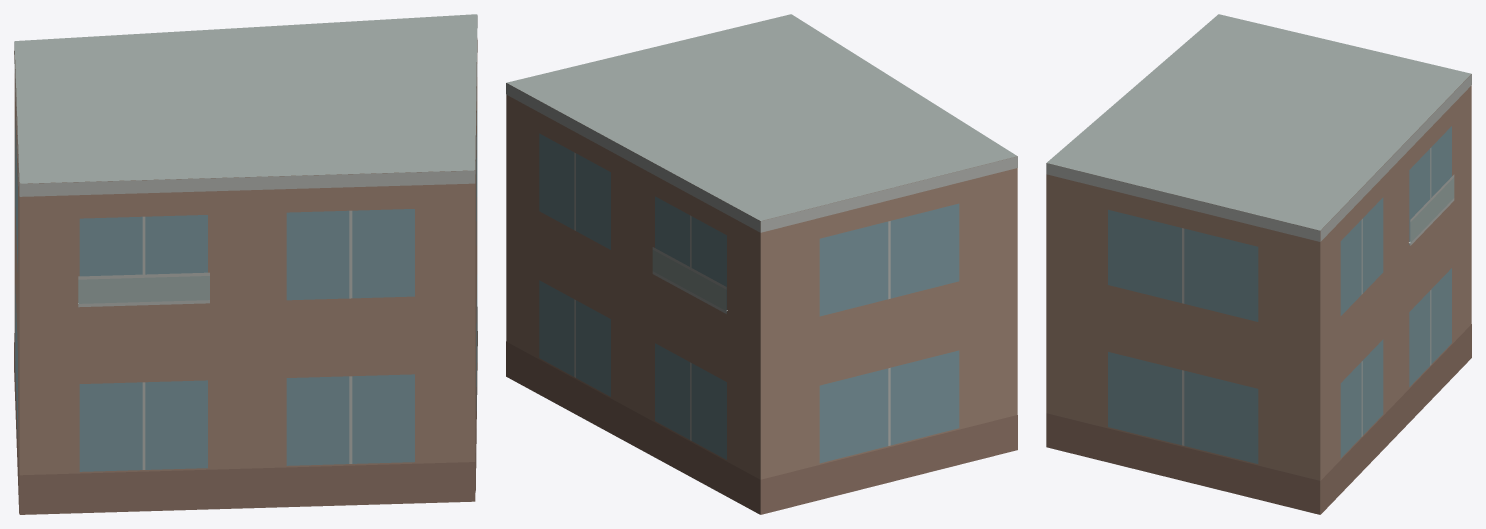
Rendered from survey-upis-32824080.glb.
3 renders of one model, left to right at view 1: azimuth 30°, elevation 25°; view 2: azimuth 150°, elevation 25°; view 3: azimuth 270°, elevation 25°, orthographic. The views are drawn at different scales.
Visible parts, largest first — view 1: survey-upis-32824080.tmp; view 2: survey-upis-32824080.tmp; view 3: survey-upis-32824080.tmp.
Part boxes in pixels (x1,y1,x2,y2): survey-upis-32824080.tmp: (14,14,477,514); survey-upis-32824080.tmp: (506,14,1017,514); survey-upis-32824080.tmp: (1046,14,1471,514).
Size of the model in its own units: 9.98 by 6.1 by 8.28.
